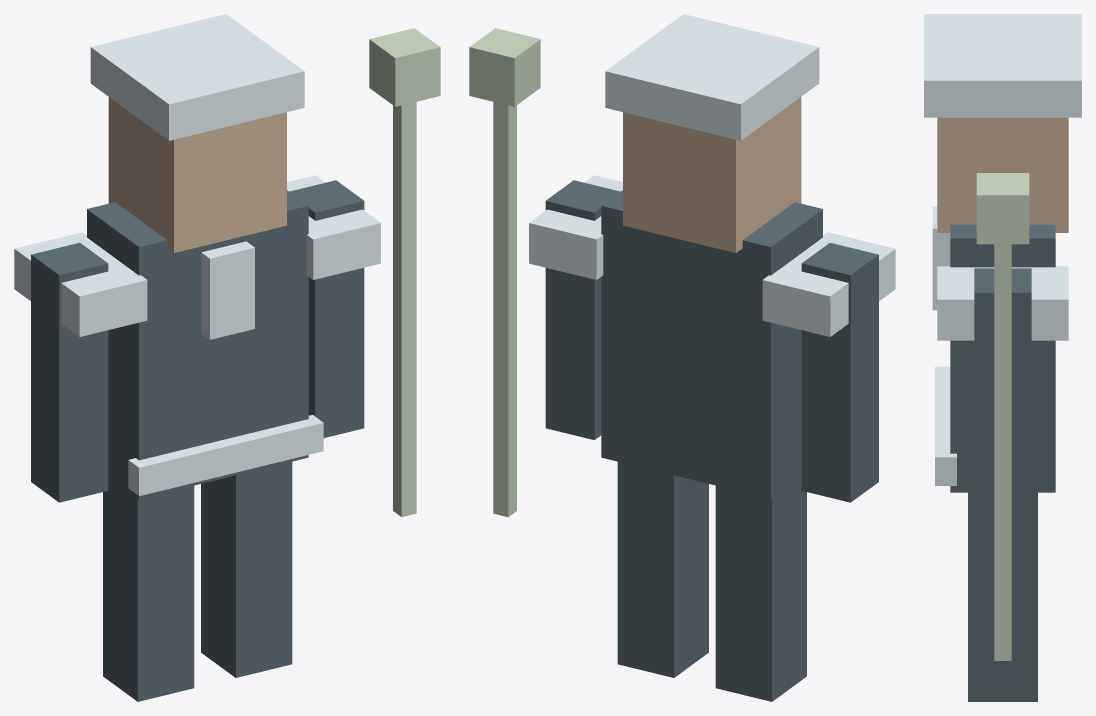
File: 14_sable_voxmere_custodian_under_echo.glb
The picture shows the model from 3 angles, left to right: view 1: azimuth 30°, elevation 25°; view 2: azimuth 150°, elevation 25°; view 3: azimuth 270°, elevation 25°; orthographic projection.
Parts seen in each view (by area): view 1: Sable Voxmere, Custodian under Echo; view 2: Sable Voxmere, Custodian under Echo; view 3: Sable Voxmere, Custodian under Echo.
Boxes of the visible parts, box(x1,y1,x2,y2) form: Sable Voxmere, Custodian under Echo: box(14, 14, 440, 701); Sable Voxmere, Custodian under Echo: box(469, 14, 895, 701); Sable Voxmere, Custodian under Echo: box(924, 14, 1081, 701).
Bounding box in the file's own units: 1 × 1.53 × 0.3555.
